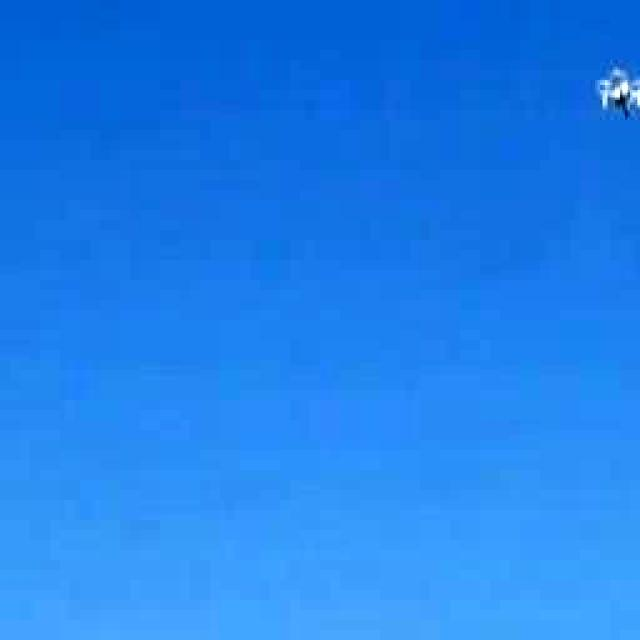bird: (571, 51, 640, 134)
